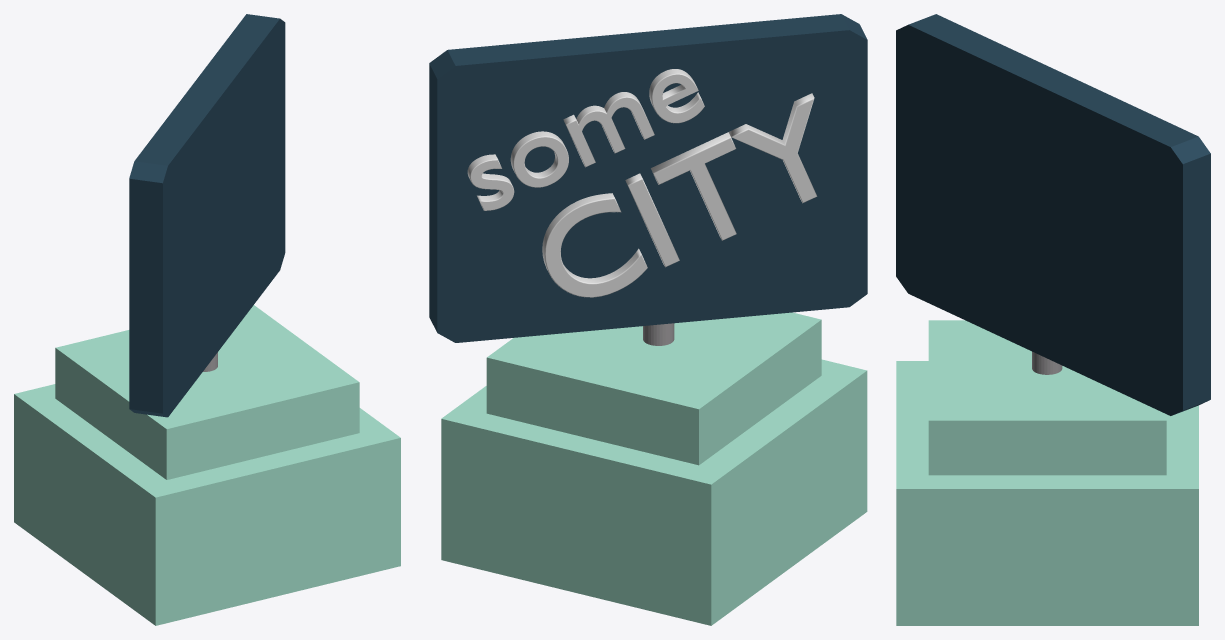
The model's file is city_label.glb.
3 views of the same model, side by side, from view 1: azimuth 30°, elevation 25°; view 2: azimuth 150°, elevation 25°; view 3: azimuth 270°, elevation 25° (orthographic). The views are drawn at different scales.
Visible parts, largest first — view 1: big_monument, label, small_monument; view 2: label, big_monument, small_monument, city_text, some_text, label_support; view 3: label, big_monument, small_monument, label_support.
Part boxes in pixels (x1,y1,x2,y2): big_monument: [14, 384, 400, 625]; label: [129, 14, 285, 417]; small_monument: [55, 305, 359, 479]; label: [429, 14, 867, 342]; big_monument: [441, 359, 867, 625]; small_monument: [486, 312, 821, 465]; city_text: [542, 93, 817, 297]; some_text: [467, 69, 704, 210]; label_support: [643, 323, 674, 345]; label: [896, 14, 1210, 415]; big_monument: [896, 361, 1198, 625]; small_monument: [928, 320, 1166, 475]; label_support: [1032, 351, 1062, 374].
Bounding box in the file's own units: 0.4522 × 0.704 × 0.4161.
